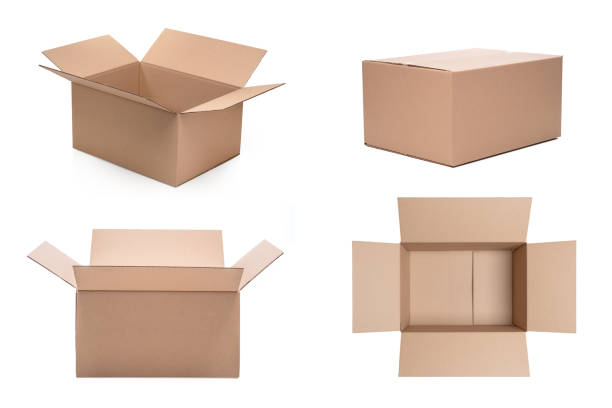box: (351, 197, 577, 377), (40, 28, 288, 188), (26, 230, 283, 379), (356, 48, 565, 170)
